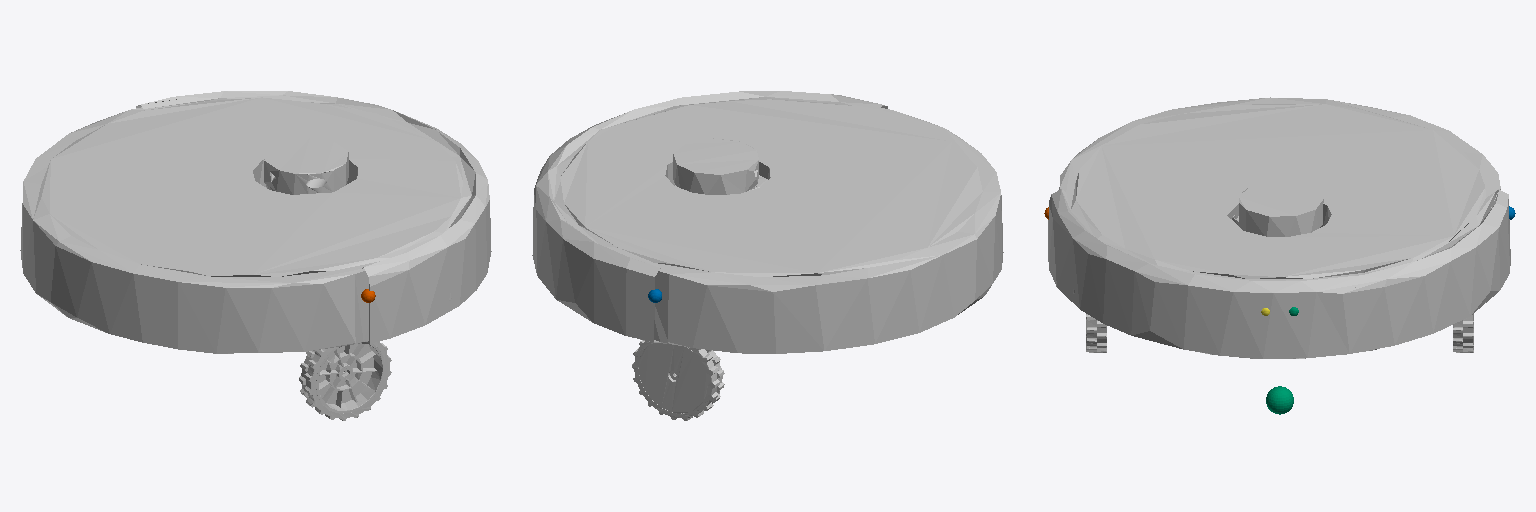
URDF robot description (rvc):
<?xml version="1.0" ?>
<!-- =================================================================================== -->
<!-- |    This document was autogenerated by xacro from bl5xx.xacro                    | -->
<!-- |    EDITING THIS FILE BY HAND IS NOT RECOMMENDED                                 | -->
<!-- =================================================================================== -->
<robot name="rvc" xmlns:controller="http://playerstage.sourceforge.net/gazebo/xmlschema/#controller" xmlns:interface="http://playerstage.sourceforge.net/gazebo/xmlschema/#interface" xmlns:sensor="http://playerstage.sourceforge.net/gazebo/xmlschema/#sensor" xmlns:xacro="http://ros.org/wiki/xacro">
  <link name="base_link"/>
  <link name="body">
    <visual>
      <origin rpy="0 0 0" xyz="0 0 0"/>
      <geometry>
        <mesh filename="package://sweeper_description/meshes/RobotBody.dae"/>
      </geometry>
      <material name="white"/>
    </visual>
    <collision name="boby_collision">
      <origin rpy="0 0 0" xyz="0 0 0"/>
      <geometry>
        <cylinder length="0.07" radius="0.16495"/>
      </geometry>
    </collision>
    <inertial>
      <origin rpy="0 0 0" xyz="0 0 0"/>
      <mass value="0.4"/>
      <inertia ixx="0.00288418358333" ixy="0.0" ixz="0.0" iyy="0.00288418358333" iyz="0.0" izz="0.0054417005"/>
    </inertial>
  </link>
  <joint name="body_to_base" type="fixed">
    <axis rpy="0 0 0" xyz="0 0 0"/>
    <parent link="base_link"/>
    <child link="body"/>
    <origin rpy="0 0 0" xyz="0 0 0.045"/>
  </joint>
  <gazebo reference="base_link">
    <sensor name="main_bumper" type="contact">
      <contact>
        <collision>base_link_fixed_joint_lump__boby_collision_collision</collision>
      </contact>
      <plugin filename="libgazebo_ros_bumper.so" name="gazebo_ros_bumper_controller">
        <selfCollide>true</selfCollide>
        <alwaysOn>true</alwaysOn>
        <updateRate>20.0</updateRate>
        <bumperTopicName>/bumper</bumperTopicName>
        <frameName>base_link</frameName>
      </plugin>
    </sensor>
    <material>Gazebo/White</material>
  </gazebo>
  <link name="front_omni">
    <inertial>
      <mass value="0.1"/>
      <inertia ixx="4e-06" ixy="0" ixz="0" iyy="4e-06" iyz="0" izz="4e-06"/>
    </inertial>
    <visual>
      <origin rpy="0 0 0" xyz="0 0 0"/>
      <geometry>
        <sphere radius="0.01"/>
      </geometry>
    </visual>
    <collision name="front_omniwheel">
      <origin rpy="0 0 0" xyz="0 0 0"/>
      <geometry>
        <sphere radius="0.01"/>
      </geometry>
    </collision>
  </link>
  <joint name="front_omni_to_base" type="continuous">
    <parent link="base_link"/>
    <child link="front_omni"/>
    <origin rpy="0 0 0" xyz="0.11 0 -0.035"/>
    <axis xyz="0 1 0"/>
  </joint>
  <gazebo reference="front_omni">
    <mu1>0.0</mu1>
    <mu2>0.0</mu2>
    <kp>10000000.0</kp>
    <kd>10.0</kd>
    <fdir1>1 0 0</fdir1>
    <maxVel>1.0</maxVel>
    <minDepth>0.00</minDepth>
    <turnGravityOff>false</turnGravityOff>
    <material>Gazebo/Black</material>
  </gazebo>
  <!-- <link name="back_omni">
    <inertial>
      <origin xyz="0 0 0" rpy="0 0 0"/>
      <mass value="0.1"/>
      <inertia ixx="0.001" ixy="0.001" ixz="0.001" iyy="0.001" iyz="0.001" izz="0.001"/>
    </inertial>
    <visual>
      <origin xyz="0 0 0" rpy="0 0 0" />
      <geometry>
        <sphere radius="${body_to_ground}"/>
      </geometry>
    </visual>
    <collision name="back_omniwheel">
      <origin xyz="0 0 0" rpy="0 0 0" />
      <geometry>
        <sphere radius="${body_to_ground}"/>
      </geometry>
    </collision>
  </link>
  <joint name="back_omni_to_base" type="fixed">
    <parent link="base_link"/>
    <child link="back_omni"/>
    <origin xyz="-0.11 0 -${body_to_ground+body_height/2-body_to_ground}" rpy="0 0 0"/>
  </joint> -->
  <link name="left_wheel">
    <collision name="left_wheel_collision">
      <origin rpy="0 1.570700 1.570700" xyz="0 0 0"/>
      <geometry>
        <cylinder length="0.016" radius="0.033"/>
      </geometry>
      <surface>
        <friction>
          <ode>
            <mu>1</mu>
            <mu2>0</mu2>
            <fdir1>0 1.0 0</fdir1>
            <implicit_spring_damper>true</implicit_spring_damper>
          </ode>
        </friction>
      </surface>
    </collision>
    <visual>
      <origin rpy="0 1.570700 1.570700" xyz="0 0 0"/>
      <geometry>
        <mesh filename="package://sweeper_description/meshes/RobotWheel.dae"/>
      </geometry>
    </visual>
    <inertial>
      <origin rpy="0 0 0" xyz="0 0 0"/>
      <mass value="0.2"/>
      <inertia ixx="5.87166666667e-05" ixy="0.0" ixz="0.0" iyy="5.87166666667e-05" iyz="0.0" izz="0.0001089"/>
    </inertial>
  </link>
  <joint name="left_wheel_joint" type="continuous">
    <parent link="base_link"/>
    <child link="left_wheel"/>
    <axis rpy="0 0 0" xyz="0 1 0"/>
    <origin rpy="0 0 0" xyz="0 0.13 -0.012"/>
  </joint>
  <transmission name="left_wheel_trans">
    <type>transmission_interface/SimpleTransmission</type>
    <actuator name="left_wheel_motor">
      <mechanicalReduction>1</mechanicalReduction>
    </actuator>
    <joint name="left_wheel_joint">
      <hardwareInterface>hardware_interface/VelocityJointInterface</hardwareInterface>
    </joint>
  </transmission>
  <gazebo reference="left_wheel">
    <mu1>200.0</mu1>
    <mu2>100.0</mu2>
    <kp>10000000.0</kp>
    <kd>10.0</kd>
    <fdir1>1 0 0</fdir1>
    <maxVel>1.0</maxVel>
    <minDepth>0.00</minDepth>
    <material>Gazebo/Black</material>
  </gazebo>
  <link name="right_wheel">
    <collision name="right_wheel_collision">
      <origin rpy="0 1.570700 1.570700" xyz="0 0 0"/>
      <geometry>
        <cylinder length="0.016" radius="0.033"/>
      </geometry>
      <surface>
        <friction>
          <ode>
            <mu>1</mu>
            <mu2>0</mu2>
            <fdir1>0 1.0 0</fdir1>
            <implicit_spring_damper>true</implicit_spring_damper>
          </ode>
        </friction>
      </surface>
    </collision>
    <visual>
      <origin rpy="0 1.570700 1.570700" xyz="0 0 0"/>
      <geometry>
        <mesh filename="package://sweeper_description/meshes/RobotWheel.dae"/>
      </geometry>
    </visual>
    <inertial>
      <origin rpy="0 0 0" xyz="0 0 0"/>
      <mass value="0.2"/>
      <inertia ixx="5.87166666667e-05" ixy="0.0" ixz="0.0" iyy="5.87166666667e-05" iyz="0.0" izz="0.0001089"/>
    </inertial>
  </link>
  <joint name="right_wheel_joint" type="continuous">
    <parent link="base_link"/>
    <child link="right_wheel"/>
    <axis rpy="0 0 0" xyz="0 1 0"/>
    <origin rpy="0 0 0" xyz="0 -0.13 -0.012"/>
  </joint>
  <transmission name="right_wheel_trans">
    <type>transmission_interface/SimpleTransmission</type>
    <actuator name="right_wheel_motor">
      <mechanicalReduction>1</mechanicalReduction>
    </actuator>
    <joint name="right_wheel_joint">
      <hardwareInterface>hardware_interface/VelocityJointInterface</hardwareInterface>
    </joint>
  </transmission>
  <gazebo reference="right_wheel">
    <mu1>200.0</mu1>
    <mu2>100.0</mu2>
    <kp>10000000.0</kp>
    <kd>10.0</kd>
    <fdir1>1 0 0</fdir1>
    <maxVel>1.0</maxVel>
    <minDepth>0.00</minDepth>
    <material>Gazebo/Black</material>
  </gazebo>
  <link name="ir_left"/>
  <joint name="ir_left_joint" type="fixed">
    <axis rpy="0 0 0" xyz="0 0 0"/>
    <parent link="body"/>
    <child link="ir_left"/>
    <origin rpy="0 0 1.570795" xyz="2.18854818207e-07 0.16495 0"/>
  </joint>
  <gazebo reference="ir_left">
    <sensor name="ir_left_sensor" type="ray">
      <pose>0 0 0 0 0 0</pose>
      <visualize>true</visualize>
      <update_rate>20</update_rate>
      <ray>
        <scan>
          <horizontal>
            <samples>10</samples>
            <resolution>1</resolution>
            <min_angle>-0.0872663888889</min_angle>
            <max_angle>0.0872663888889</max_angle>
          </horizontal>
        </scan>
        <range>
          <min>0.01</min>
          <max>0.26</max>
          <resolution>0.01</resolution>
        </range>
      </ray>
      <plugin filename="libgazebo_ros_range.so" name="gazebo_ros_ir_left_controller">
        <gaussianNoise>0.005</gaussianNoise>
        <alwaysOn>true</alwaysOn>
        <updateRate>20</updateRate>
        <topicName>/ir/left</topicName>
        <frameName>base_link</frameName>
        <radiation>ir</radiation>
        <fov>0.174532777778</fov>
      </plugin>
    </sensor>
  </gazebo>
  <link name="ir_left_front"/>
  <joint name="ir_left_front_joint" type="fixed">
    <axis rpy="0 0 0" xyz="0 0 0"/>
    <parent link="body"/>
    <child link="ir_left_front"/>
    <origin rpy="0 0 0.7853975" xyz="0.116637340934 0.11663718618 0"/>
  </joint>
  <gazebo reference="ir_left_front">
    <sensor name="ir_left_front_sensor" type="ray">
      <pose>0 0 0 0 0 0</pose>
      <visualize>true</visualize>
      <update_rate>20</update_rate>
      <ray>
        <scan>
          <horizontal>
            <samples>10</samples>
            <resolution>1</resolution>
            <min_angle>-0.0872663888889</min_angle>
            <max_angle>0.0872663888889</max_angle>
          </horizontal>
        </scan>
        <range>
          <min>0.01</min>
          <max>0.26</max>
          <resolution>0.01</resolution>
        </range>
      </ray>
      <plugin filename="libgazebo_ros_range.so" name="gazebo_ros_ir_left_front_controller">
        <gaussianNoise>0.005</gaussianNoise>
        <alwaysOn>true</alwaysOn>
        <updateRate>20</updateRate>
        <topicName>/ir/left_front</topicName>
        <frameName>base_link</frameName>
        <radiation>ir</radiation>
        <fov>0.174532777778</fov>
      </plugin>
    </sensor>
  </gazebo>
  <link name="ir_front"/>
  <joint name="ir_front_joint" type="fixed">
    <axis rpy="0 0 0" xyz="0 0 0"/>
    <parent link="body"/>
    <child link="ir_front"/>
    <origin rpy="0 0 0" xyz="0.16495 0.0 0"/>
  </joint>
  <gazebo reference="ir_front">
    <sensor name="ir_front_sensor" type="ray">
      <pose>0 0 0 0 0 0</pose>
      <visualize>true</visualize>
      <update_rate>20</update_rate>
      <ray>
        <scan>
          <horizontal>
            <samples>10</samples>
            <resolution>1</resolution>
            <min_angle>-0.0872663888889</min_angle>
            <max_angle>0.0872663888889</max_angle>
          </horizontal>
        </scan>
        <range>
          <min>0.01</min>
          <max>0.26</max>
          <resolution>0.01</resolution>
        </range>
      </ray>
      <plugin filename="libgazebo_ros_range.so" name="gazebo_ros_ir_front_controller">
        <gaussianNoise>0.005</gaussianNoise>
        <alwaysOn>true</alwaysOn>
        <updateRate>20</updateRate>
        <topicName>/ir/front</topicName>
        <frameName>base_link</frameName>
        <radiation>ir</radiation>
        <fov>0.174532777778</fov>
      </plugin>
    </sensor>
  </gazebo>
  <link name="ir_right_front"/>
  <joint name="ir_right_front_joint" type="fixed">
    <axis rpy="0 0 0" xyz="0 0 0"/>
    <parent link="body"/>
    <child link="ir_right_front"/>
    <origin rpy="0 0 -0.7853975" xyz="0.116637340934 -0.11663718618 0"/>
  </joint>
  <gazebo reference="ir_right_front">
    <sensor name="ir_right_front_sensor" type="ray">
      <pose>0 0 0 0 0 0</pose>
      <visualize>true</visualize>
      <update_rate>20</update_rate>
      <ray>
        <scan>
          <horizontal>
            <samples>10</samples>
            <resolution>1</resolution>
            <min_angle>-0.0872663888889</min_angle>
            <max_angle>0.0872663888889</max_angle>
          </horizontal>
        </scan>
        <range>
          <min>0.01</min>
          <max>0.26</max>
          <resolution>0.01</resolution>
        </range>
      </ray>
      <plugin filename="libgazebo_ros_range.so" name="gazebo_ros_ir_right_front_controller">
        <gaussianNoise>0.005</gaussianNoise>
        <alwaysOn>true</alwaysOn>
        <updateRate>20</updateRate>
        <topicName>/ir/right_front</topicName>
        <frameName>base_link</frameName>
        <radiation>ir</radiation>
        <fov>0.174532777778</fov>
      </plugin>
    </sensor>
  </gazebo>
  <link name="ir_right"/>
  <joint name="ir_right_joint" type="fixed">
    <axis rpy="0 0 0" xyz="0 0 0"/>
    <parent link="body"/>
    <child link="ir_right"/>
    <origin rpy="0 0 -1.570795" xyz="2.18854818207e-07 -0.16495 0"/>
  </joint>
  <gazebo reference="ir_right">
    <sensor name="ir_right_sensor" type="ray">
      <pose>0 0 0 0 0 0</pose>
      <visualize>true</visualize>
      <update_rate>20</update_rate>
      <ray>
        <scan>
          <horizontal>
            <samples>10</samples>
            <resolution>1</resolution>
            <min_angle>-0.0872663888889</min_angle>
            <max_angle>0.0872663888889</max_angle>
          </horizontal>
        </scan>
        <range>
          <min>0.01</min>
          <max>0.26</max>
          <resolution>0.01</resolution>
        </range>
      </ray>
      <plugin filename="libgazebo_ros_range.so" name="gazebo_ros_ir_right_controller">
        <gaussianNoise>0.005</gaussianNoise>
        <alwaysOn>true</alwaysOn>
        <updateRate>20</updateRate>
        <topicName>/ir/right</topicName>
        <frameName>base_link</frameName>
        <radiation>ir</radiation>
        <fov>0.174532777778</fov>
      </plugin>
    </sensor>
  </gazebo>
  <link name="ir_recevier_fl">
    <visual>
      <origin rpy="0 0 0" xyz="0 0 0"/>
      <geometry>
        <sphere radius="0.005"/>
      </geometry>
    </visual>
  </link>
  <joint name="ir_recevier_fl_joint" type="fixed">
    <axis rpy="0 0 0" xyz="0 0 0"/>
    <parent link="body"/>
    <child link="ir_recevier_fl"/>
    <origin rpy="0 0 0.06" xyz="0.161658577443 0.00971117084935 0.015"/>
  </joint>
  <gazebo reference="ir_recevier_fl">
    <material>Gazebo/Red</material>
  </gazebo>
  <link name="ir_recevier_fr">
    <visual>
      <origin rpy="0 0 0" xyz="0 0 0"/>
      <geometry>
        <sphere radius="0.005"/>
      </geometry>
    </visual>
  </link>
  <joint name="ir_recevier_fr_joint" type="fixed">
    <axis rpy="0 0 0" xyz="0 0 0"/>
    <parent link="body"/>
    <child link="ir_recevier_fr"/>
    <origin rpy="0 0 -0.06" xyz="0.161658577443 -0.00971117084935 0.015"/>
  </joint>
  <gazebo reference="ir_recevier_fr">
    <material>Gazebo/Green</material>
  </gazebo>
  <link name="ir_recevier_l">
    <visual>
      <origin rpy="0 0 0" xyz="0 0 0"/>
      <geometry>
        <sphere radius="0.005"/>
      </geometry>
    </visual>
  </link>
  <joint name="ir_recevier_l_joint" type="fixed">
    <axis rpy="0 0 0" xyz="0 0 0"/>
    <parent link="body"/>
    <child link="ir_recevier_l"/>
    <origin rpy="0 0 1.570795" xyz="2.14874433517e-07 0.16195 0.015"/>
  </joint>
  <gazebo reference="ir_recevier_l">
    <material>Gazebo/Blue</material>
  </gazebo>
  <link name="ir_recevier_r">
    <visual>
      <origin rpy="0 0 0" xyz="0 0 0"/>
      <geometry>
        <sphere radius="0.005"/>
      </geometry>
    </visual>
  </link>
  <joint name="ir_recevier_r_joint" type="fixed">
    <axis rpy="0 0 0" xyz="0 0 0"/>
    <parent link="body"/>
    <child link="ir_recevier_r"/>
    <origin rpy="0 0 -1.570795" xyz="2.14874433517e-07 -0.16195 0.015"/>
  </joint>
  <gazebo reference="ir_recevier_r">
    <material>Gazebo/Purple</material>
  </gazebo>
  <link name="lidar_link">
    <collision name="collision">
      <origin rpy="0 0 0" xyz="0 0 0"/>
      <geometry>
        <cylinder length="0.017" radius="0.029"/>
      </geometry>
    </collision>
    <visual name="laser_visual">
      <origin rpy="0 0 0" xyz="0 0 0"/>
      <geometry>
        <mesh filename="package://sweeper_description/meshes/RobotLidar.dae"/>
      </geometry>
    </visual>
    <inertial>
      <mass value="0.2"/>
      <inertia ixx="4.68666666667e-05" ixy="0.0" ixz="0.0" iyy="4.68666666667e-05" iyz="0.0" izz="8.41e-05"/>
    </inertial>
  </link>
  <link name="laser_link">
    </link>
  <joint name="laser_joint" type="fixed">
    <axis rpy="0 0 0" xyz="0 0 0"/>
    <parent link="lidar_link"/>
    <child link="laser_link"/>
    <origin rpy="0 0 0" xyz="0 0 0.005"/>
  </joint>
  <gazebo reference="laser_link">
    <sensor name="eai_lidar" type="ray">
      <pose>0 0 0 0 0 0</pose>
      <visualize>false</visualize>
      <update_rate>5</update_rate>
      <ray>
        <scan>
          <horizontal>
            <samples>360</samples>
            <resolution>1</resolution>
            <min_angle>0</min_angle>
            <max_angle>6.28318</max_angle>
          </horizontal>
        </scan>
        <range>
          <min>0.10</min>
          <max>8.0</max>
          <resolution>0.01</resolution>
        </range>
        <noise>
          <type>gaussian</type>
          <!-- Noise parameters based on published spec for Hokuyo laser
               achieving "+-30mm" accuracy at range < 10m.  A mean of 0.0m and
               stddev of 0.01m will put 99.7% of samples within 0.03m of the true
               reading. -->
          <mean>0.0</mean>
          <stddev>0.01</stddev>
        </noise>
      </ray>
      <plugin filename="libgazebo_ros_laser.so" name="gazebo_ros_lidar_controller">
        <topicName>/scan</topicName>
        <frameName>lidar_link</frameName>
      </plugin>
    </sensor>
  </gazebo>
  <joint name="lidar_joint" type="fixed">
    <parent link="body"/>
    <child link="lidar_link"/>
    <origin xyz="0.045 0 0.035"/>
  </joint>
  <!--xacro:include filename="imu.xacro" /-->
  <link name="imu_link">
    <visual>
      <origin rpy="0 0 0" xyz="0 0 0"/>
      <geometry>
        <cylinder length="0.001" radius="0.001"/>
      </geometry>
      <material name="white"/>
    </visual>
  </link>
  <joint name="imu_joint" type="fixed">
    <parent link="body"/>
    <child link="imu_link"/>
    <origin xyz="0 0 0"/>
  </joint>
  <gazebo reference="imu_link">
    <gravity>true</gravity>
    <sensor name="imu_sensor" type="imu">
      <always_on>true</always_on>
      <update_rate>100</update_rate>
      <visualize>true</visualize>
      <topic>__default_topic__</topic>
      <plugin filename="libgazebo_ros_imu_sensor.so" name="imu_plugin">
        <topicName>/imu</topicName>
        <bodyName>imu_link</bodyName>
        <updateRateHZ>50.0</updateRateHZ>
        <gaussianNoise>0.0</gaussianNoise>
        <xyzOffset>0 0 0</xyzOffset>
        <rpyOffset>0 0 0</rpyOffset>
        <frameName>imu_link</frameName>
        <initialOrientationAsReference>false</initialOrientationAsReference>
      </plugin>
      <pose>0 0 0 0 0 0</pose>
    </sensor>
  </gazebo>
  <!-- Gazebo plugin for ROS Control -->
  <gazebo>
    <plugin filename="libgazebo_ros_control.so" name="gazebo_ros_control">
      <robotNamespace>/</robotNamespace>
      <legacyModeNS>true</legacyModeNS>
    </plugin>
  </gazebo>
</robot>

--- What the picture shows (computed from the rendered views, not written in the file) ---
3 views of the same robot in one strip: view 1: azimuth 30°, elevation 25°; view 2: azimuth 150°, elevation 25°; view 3: azimuth 270°, elevation 25° (orthographic).
Robot: rvc — 17 links, 16 joints (3 continuous, 13 fixed); root link base_link; default pose: every joint at zero.
Links seen in each view (by area): view 1: body, right_wheel, lidar_link; view 2: body, left_wheel, lidar_link; view 3: body, lidar_link, left_wheel, right_wheel, front_omni.
Boxes of the visible links, x1=… form: body: x1=20, y1=91, x2=491, y2=353; right_wheel: x1=299, y1=341, x2=391, y2=420; lidar_link: x1=264, y1=138, x2=348, y2=194; body: x1=532, y1=91, x2=1003, y2=353; left_wheel: x1=632, y1=340, x2=724, y2=420; lidar_link: x1=673, y1=138, x2=767, y2=194; body: x1=1048, y1=97, x2=1510, y2=358; lidar_link: x1=1232, y1=182, x2=1323, y2=236; left_wheel: x1=1453, y1=314, x2=1473, y2=352; right_wheel: x1=1086, y1=314, x2=1106, y2=352; front_omni: x1=1266, y1=386, x2=1293, y2=414.
Bounding box of the posed robot: 0.3298 × 0.3339 × 0.1375 m (x, y, z).
Meshes: 3 distinct files referenced, 4 mesh visuals loaded (3 Collada DAE).
